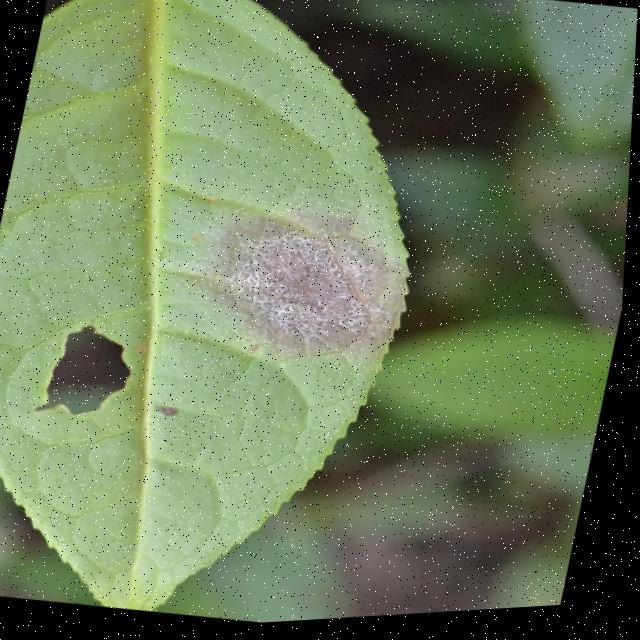Tea exobasidium blight: (213, 206, 422, 383)
